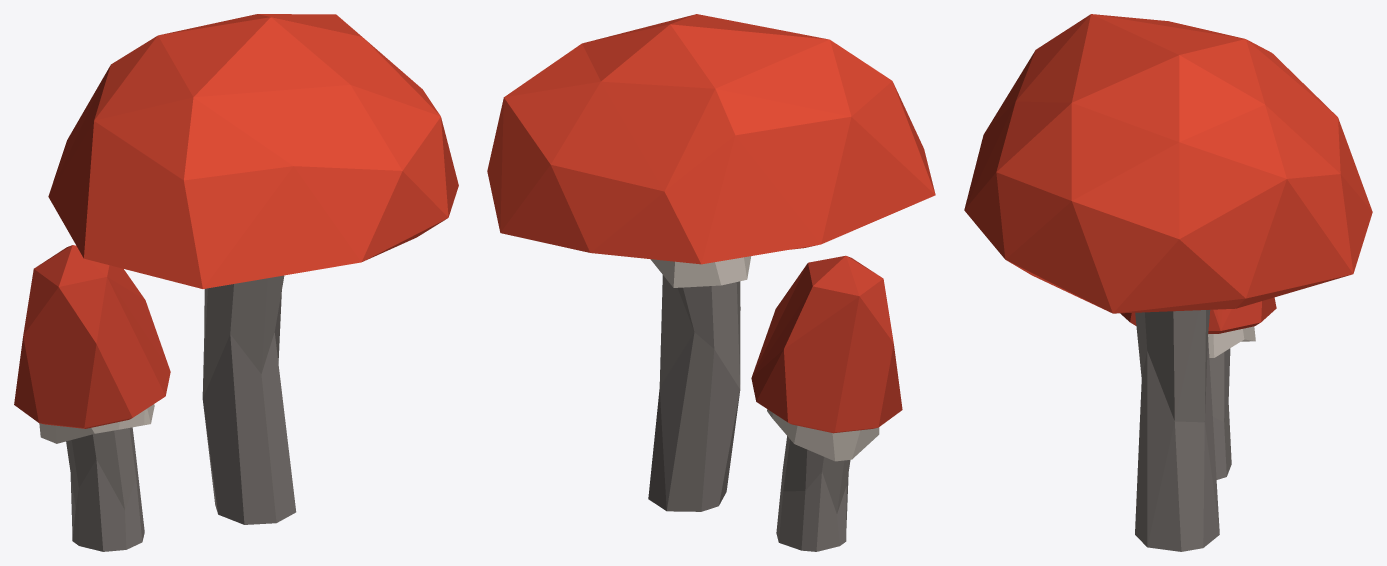
File: SM_Mushroom_01.glb
3 renders of one model, left to right at view 1: azimuth 30°, elevation 25°; view 2: azimuth 150°, elevation 25°; view 3: azimuth 270°, elevation 25°, orthographic. The views are drawn at different scales.
Visible parts, largest first — view 1: SM_Mushroom_01; view 2: SM_Mushroom_01; view 3: SM_Mushroom_01.
Boxes of the visible parts, <box> form: SM_Mushroom_01: <box>14,14,458,551</box>; SM_Mushroom_01: <box>487,14,935,551</box>; SM_Mushroom_01: <box>964,14,1372,551</box>.
Bounding box in the file's own units: 0.1561 × 0.1832 × 0.1388.
1 material, 1 textured.
